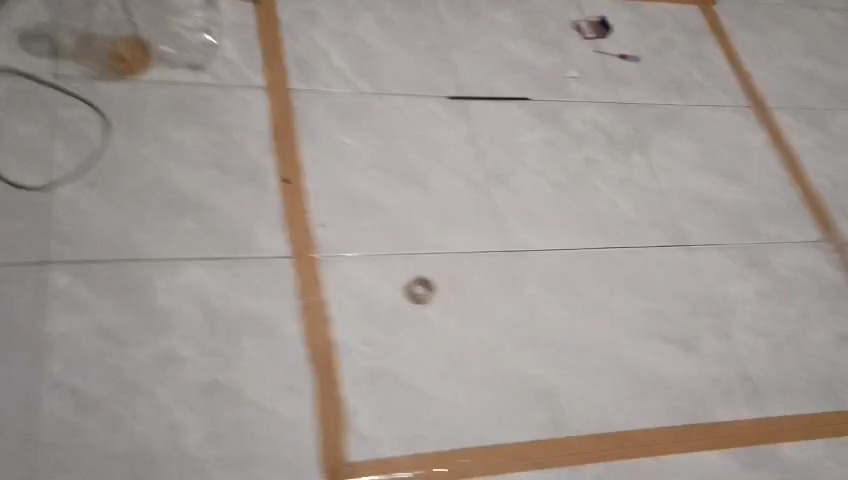floor marking: (256, 1, 847, 479), (634, 0, 847, 280)
